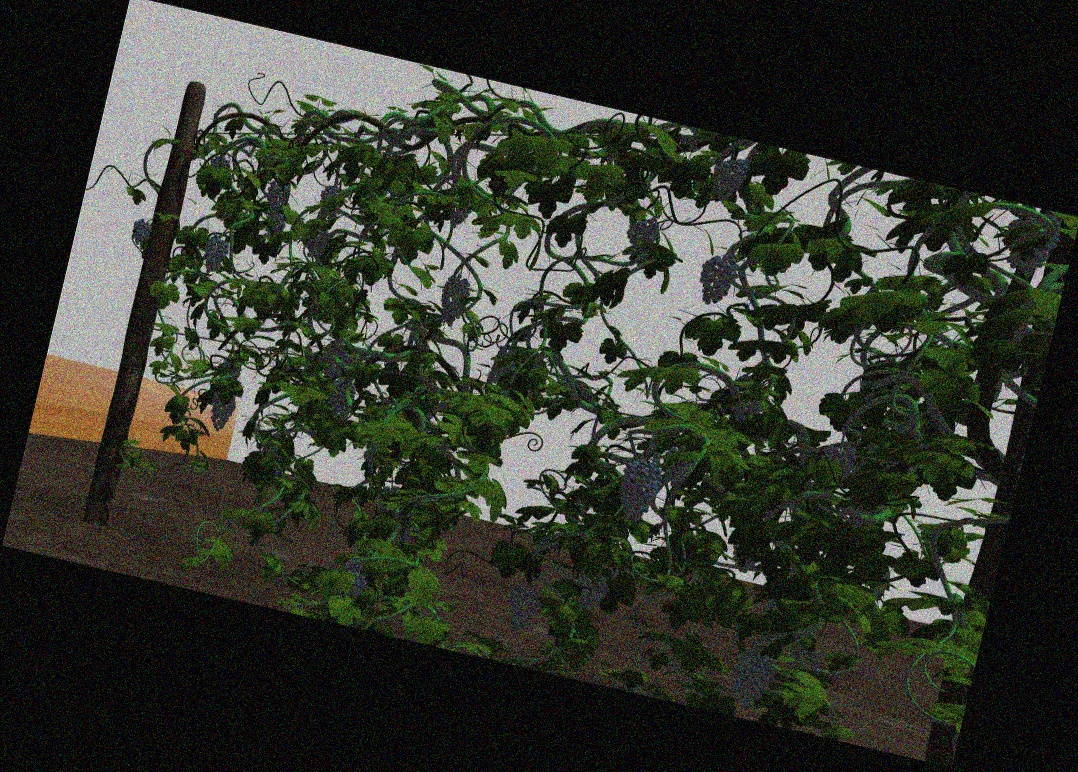grape: (1003, 210, 1057, 277), (616, 458, 659, 523), (729, 649, 773, 708), (698, 252, 736, 306), (506, 581, 540, 634), (439, 273, 470, 327), (573, 571, 607, 612), (716, 155, 746, 200), (338, 559, 367, 600), (202, 232, 227, 274), (209, 391, 234, 431), (327, 379, 353, 417), (627, 217, 658, 247), (321, 343, 346, 378), (265, 177, 289, 207), (306, 229, 328, 259), (130, 218, 151, 244), (265, 210, 286, 235)
